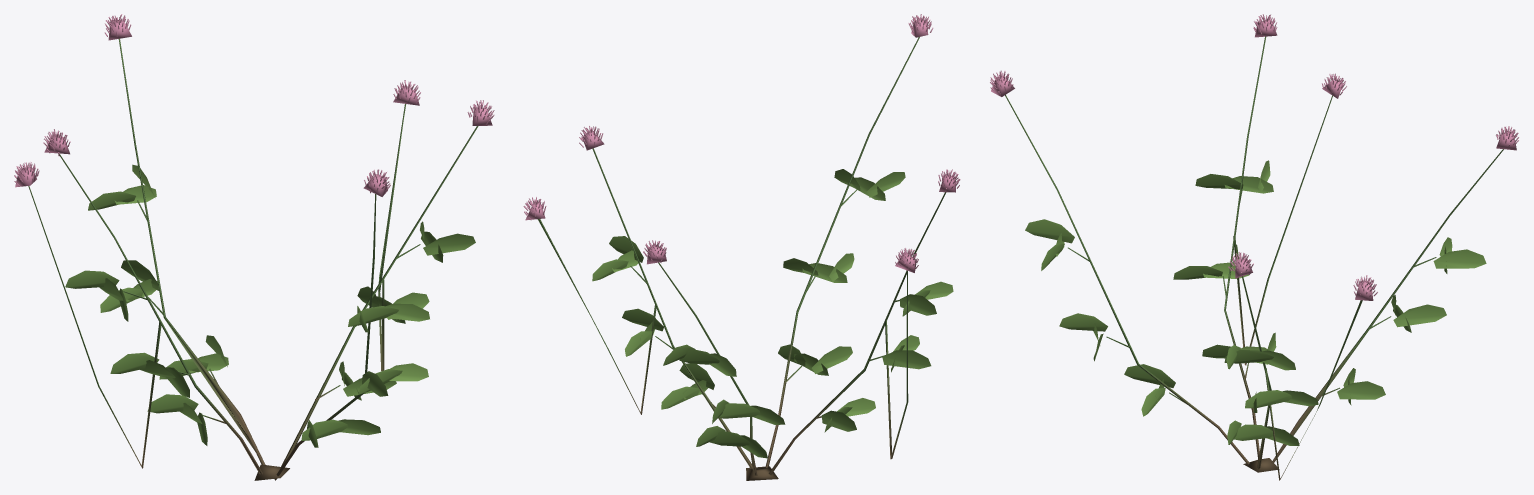
File: RedClover_lod2.glb
3 renders of one model, left to right at view 1: azimuth 30°, elevation 25°; view 2: azimuth 150°, elevation 25°; view 3: azimuth 270°, elevation 25°, orthographic. The views are drawn at different scales.
Parts seen in each view (by area): view 1: Plant_LOD2; view 2: Plant_LOD2; view 3: Plant_LOD2.
Part boxes in pixels (left/top/right/bottom): Plant_LOD2: left=14, top=14, right=494, bottom=480; Plant_LOD2: left=523, top=14, right=960, bottom=480; Plant_LOD2: left=990, top=14, right=1519, bottom=480.
Size of the model in its own units: 0.3854 by 0.3551 by 0.4471.
